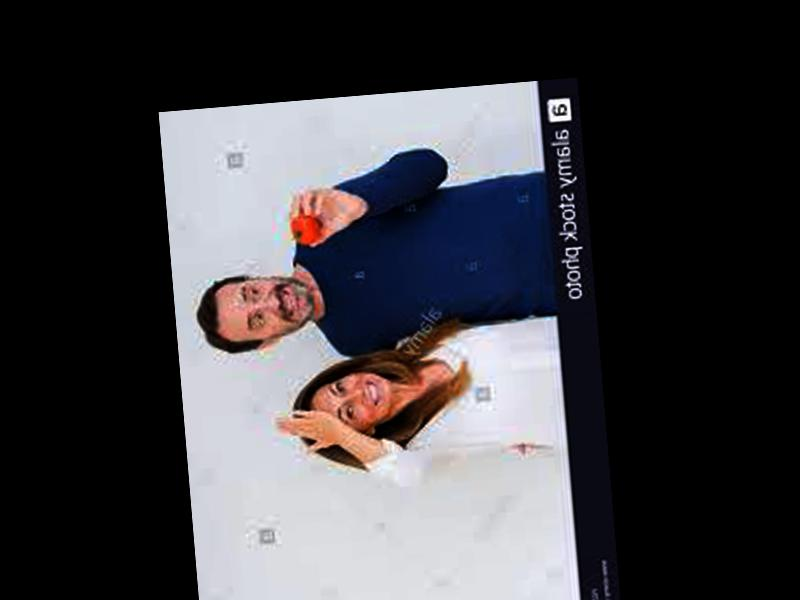Tomato: (287, 215, 320, 245)
